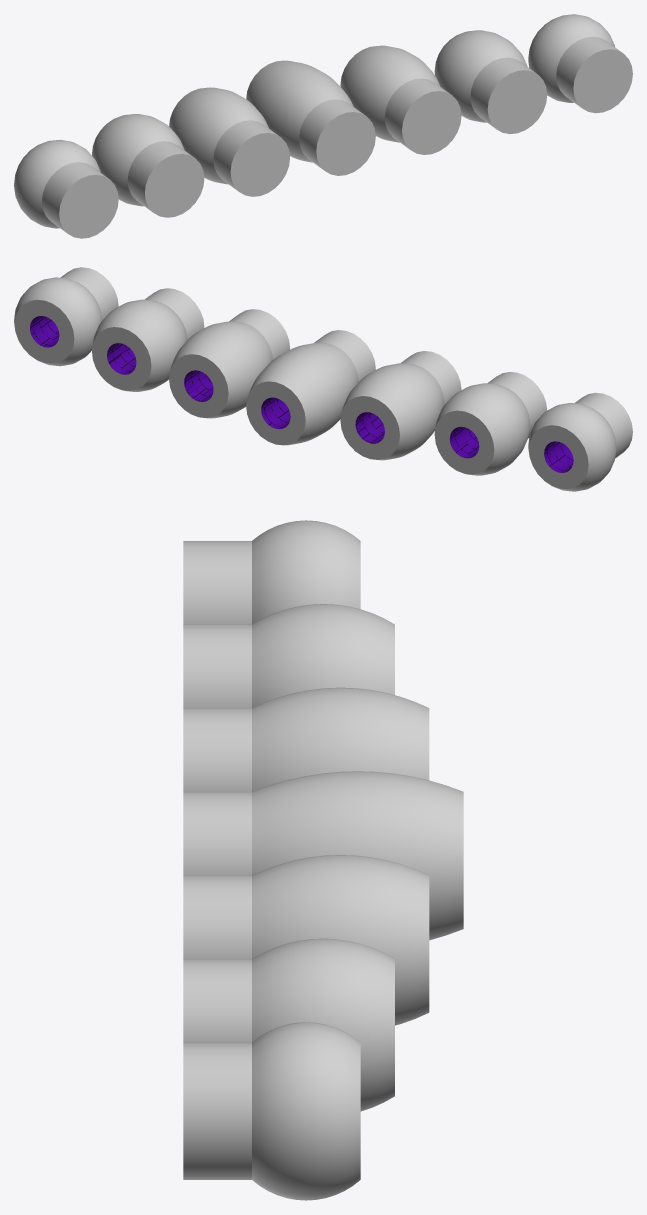
Rendered from Cannon2.dae.
3 views of the same model, one above another, from view 1: azimuth 30°, elevation 25°; view 2: azimuth 150°, elevation 25°; view 3: azimuth 270°, elevation 25° (orthographic). The views are drawn at different scales.
Parts seen in each view (by area): view 1: SketchUp (×7); view 2: SketchUp (×14); view 3: SketchUp (×7).
Part boxes in pixels (x1=…): SketchUp (×7): x1=14, y1=14, x2=632, y2=238; SketchUp (×14): x1=14, y1=267, x2=632, y2=491; SketchUp (×7): x1=183, y1=520, x2=463, y2=1200.
Bounding box in the file's own units: 7.81 × 1.6 × 1.02.
